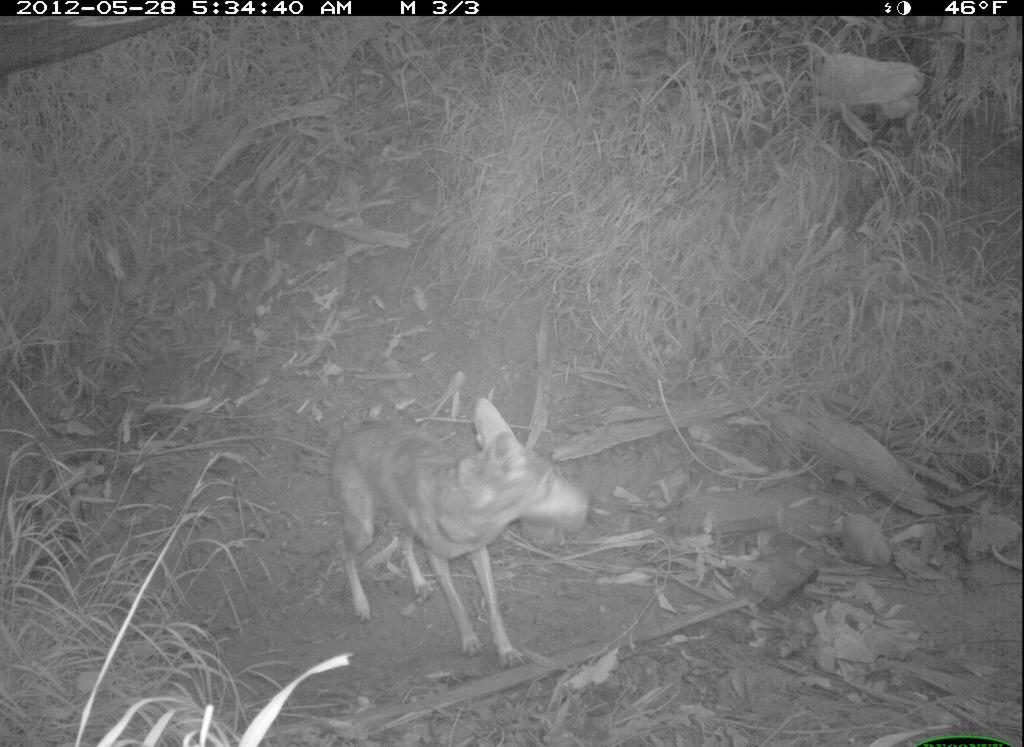coyote: (318, 386, 606, 673)
